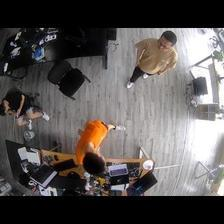normal: (123, 31, 178, 89), (73, 118, 126, 169)
